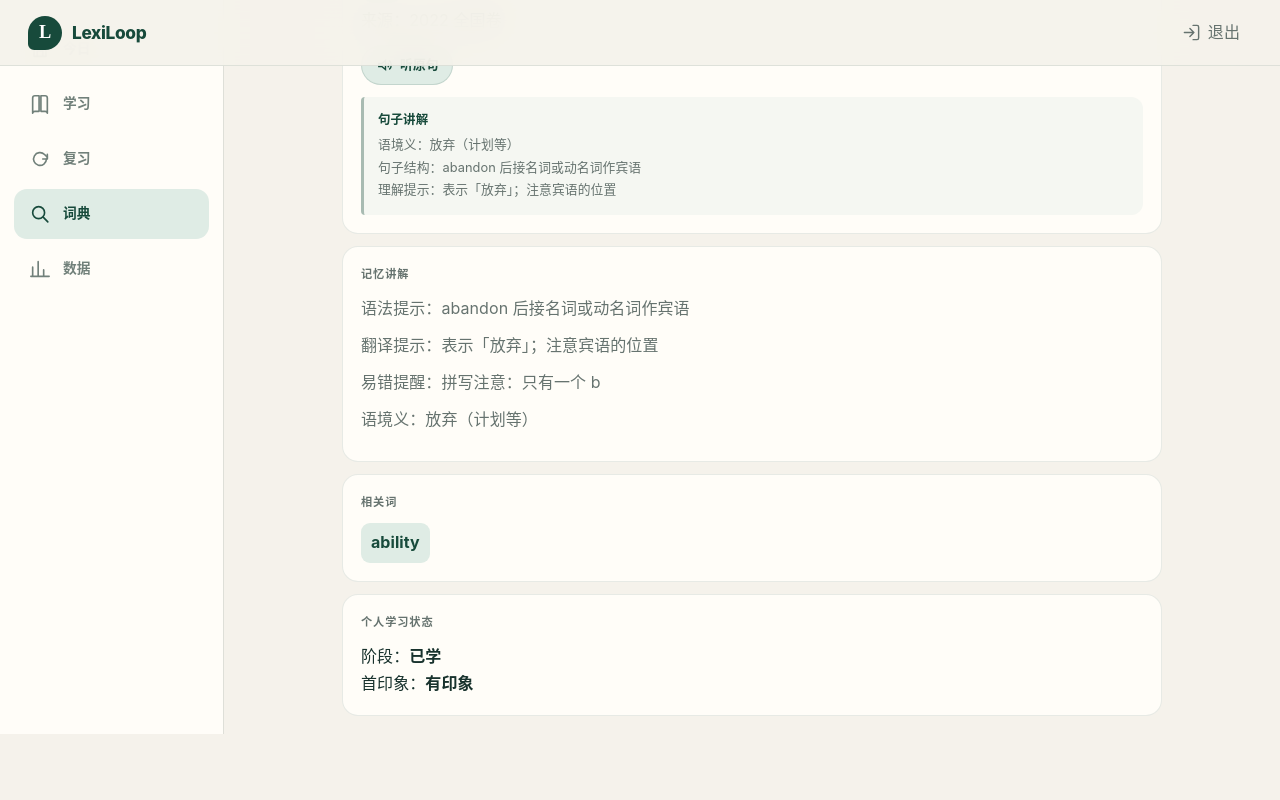
Scenario: word detail › shows related words as links and the personal study state
(page scrolled)
Expected: the text "已学" is shown, [409,646,442,666]
Expected: the text "有印象" is shown, [425,673,474,693]
Click the link "ability": (395, 543) [361,523,430,562]
(page scrolled)
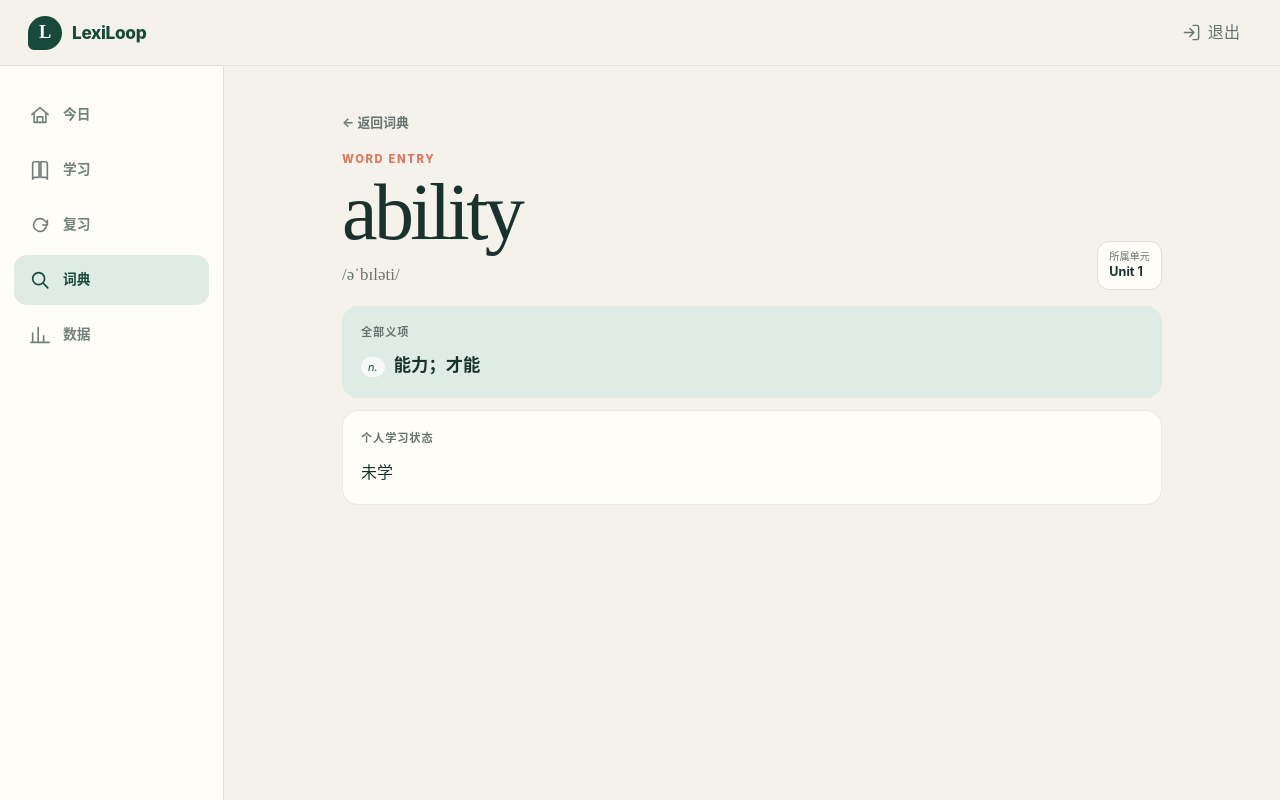
Expected: the heading "ability" is shown, [342,172,521,252]
Expected: the text "未学" is shown, [361,462,393,482]
